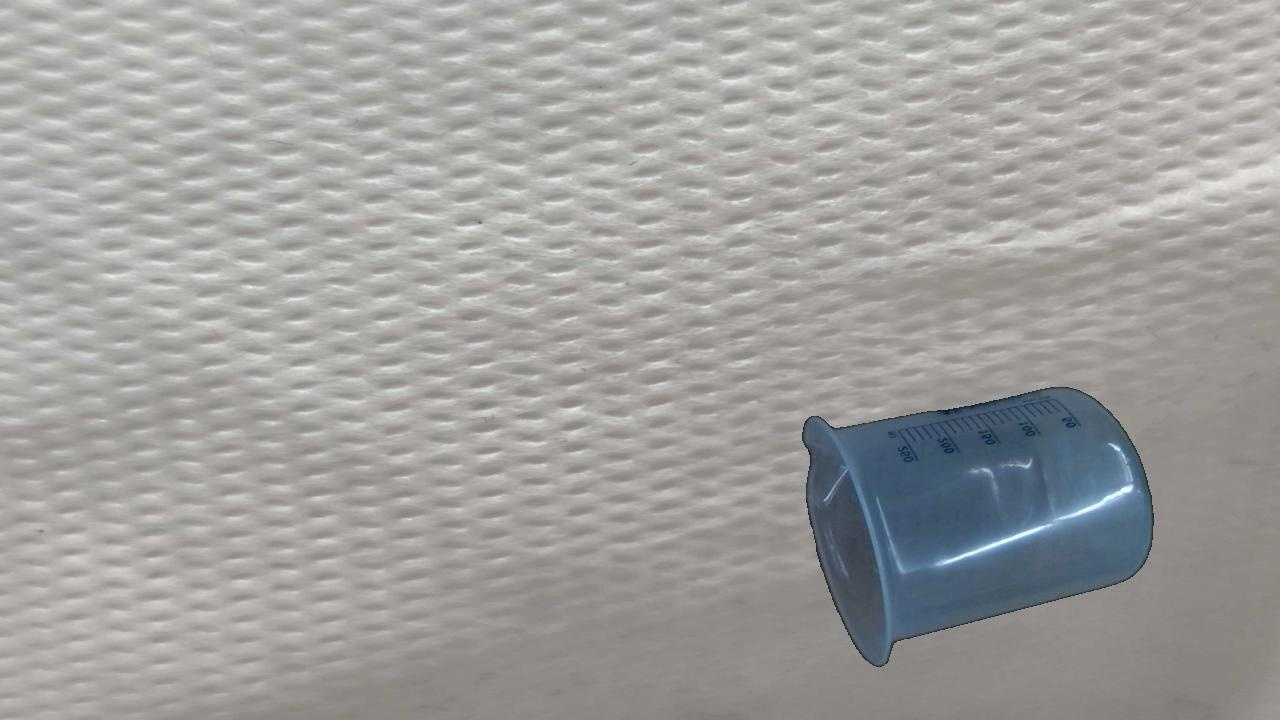becker: (802, 384, 1155, 668)
